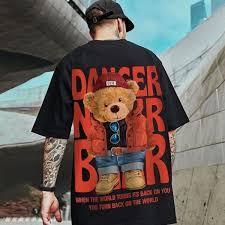Tshirt: (30, 38, 190, 225)
